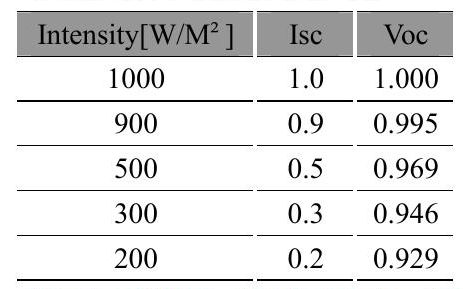table: (12, 7, 458, 287), (20, 15, 451, 54)
table column: (26, 12, 247, 283), (360, 11, 451, 283), (264, 11, 351, 283)
table column header: (19, 14, 453, 55)
table row: (20, 59, 453, 98), (19, 239, 456, 277), (20, 149, 455, 187), (20, 104, 454, 142), (20, 195, 456, 232)
